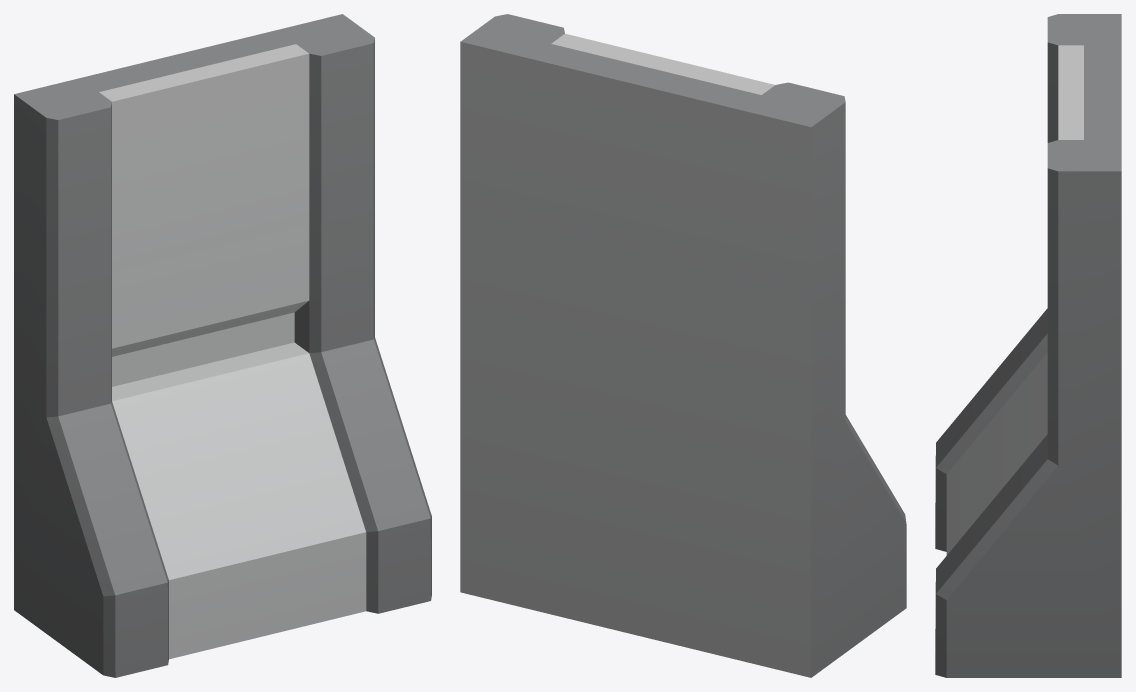
Rendered from Wall_type_A_030.fbx.
The picture shows the model from 3 angles, left to right: view 1: azimuth 30°, elevation 25°; view 2: azimuth 150°, elevation 25°; view 3: azimuth 270°, elevation 25°; orthographic projection. The views are drawn at different scales.
Parts seen in each view (by area): view 1: Wall_type_A_030; view 2: Wall_type_A_030; view 3: Wall_type_A_030.
Boxes of the visible parts, x1=… form: Wall_type_A_030: x1=14, y1=14, x2=431, y2=677; Wall_type_A_030: x1=460, y1=14, x2=906, y2=677; Wall_type_A_030: x1=935, y1=14, x2=1121, y2=677.
Size of the model in its own units: 100 by 50 by 150.
